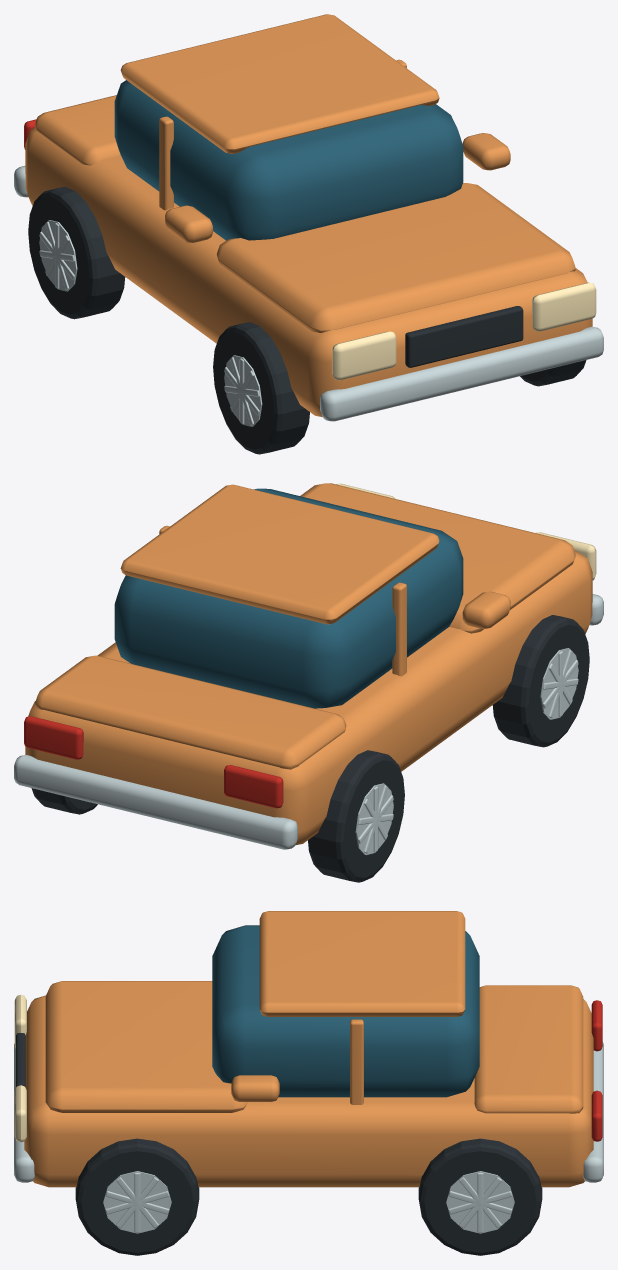
Rendered from quay-coupe.glb.
3 views of the same model, one above another, from view 1: azimuth 30°, elevation 25°; view 2: azimuth 150°, elevation 25°; view 3: azimuth 270°, elevation 25° (orthographic). The views are drawn at different scales.
Visible parts, largest first — view 1: Warm copper pearl, Midnight blue glass, Satin alloy, TireMeshFL, TireMeshRL, Ivory headlights, Rubber, TireMeshFR; view 2: Warm copper pearl, Midnight blue glass, Satin alloy, TireMeshRL, TireMeshFL, Red tail lamps, TireMeshRR, Ivory headlights; view 3: Warm copper pearl, Midnight blue glass, TireMeshFR, TireMeshRR, Satin alloy, Ivory headlights, Red tail lamps, Rubber.
Boxes of the visible parts, bbox=[...] form: Warm copper pearl: bbox=[25, 14, 592, 416]; Midnight blue glass: bbox=[114, 80, 463, 240]; Satin alloy: bbox=[14, 166, 603, 421]; TireMeshFL: bbox=[213, 322, 309, 454]; TireMeshRL: bbox=[28, 186, 125, 319]; Ivory headlights: bbox=[332, 282, 596, 380]; Rubber: bbox=[405, 306, 523, 367]; TireMeshFR: bbox=[520, 360, 586, 386]; Warm copper pearl: bbox=[25, 483, 592, 845]; Midnight blue glass: bbox=[114, 488, 463, 708]; Satin alloy: bbox=[14, 594, 603, 849]; TireMeshRL: bbox=[308, 750, 404, 882]; TireMeshFL: bbox=[492, 615, 589, 747]; Red tail lamps: bbox=[24, 716, 283, 808]; TireMeshRR: bbox=[31, 788, 97, 814]; Ivory headlights: bbox=[336, 483, 596, 580]; Warm copper pearl: bbox=[24, 911, 593, 1187]; Midnight blue glass: bbox=[212, 925, 479, 1097]; TireMeshFR: bbox=[75, 1138, 199, 1255]; TireMeshRR: bbox=[418, 1138, 542, 1255]; Satin alloy: bbox=[14, 1042, 603, 1182]; Ivory headlights: bbox=[14, 995, 26, 1142]; Red tail lamps: bbox=[591, 1000, 602, 1141]; Rubber: bbox=[16, 1033, 25, 1087].
Size of the model in its own units: 2.55 by 1.85 by 4.3.
